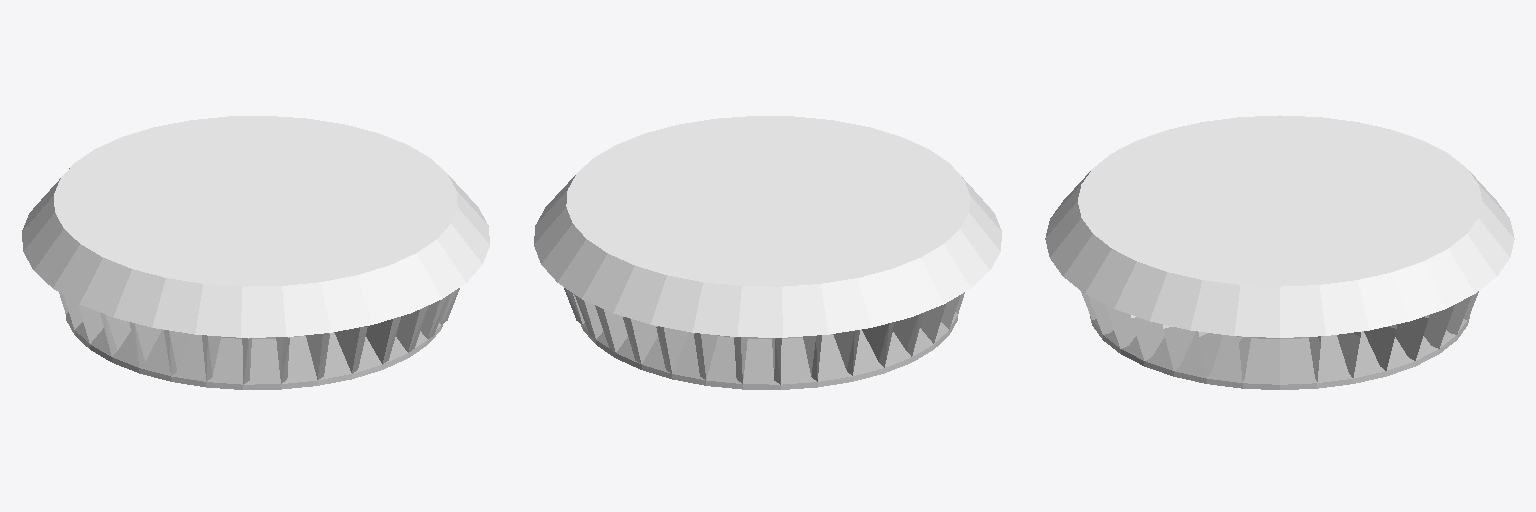
3 views of the same model, side by side, from view 1: azimuth 30°, elevation 25°; view 2: azimuth 150°, elevation 25°; view 3: azimuth 270°, elevation 25° (orthographic).
Visible parts, largest first — view 1: Cylinder.002_Cylinder.003; view 2: Cylinder.002_Cylinder.003; view 3: Cylinder.002_Cylinder.003.
Boxes of the visible parts, <box> form: Cylinder.002_Cylinder.003: <box>22,116,489,389</box>; Cylinder.002_Cylinder.003: <box>534,116,1001,389</box>; Cylinder.002_Cylinder.003: <box>1045,115,1514,389</box>.
Bounding box in the file's own units: 0.4504 × 0.1161 × 0.4504.
Materials: 1 (1 with a texture image).